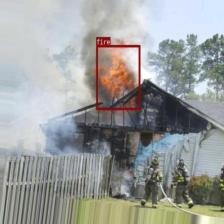fire: (96, 44, 140, 110)
